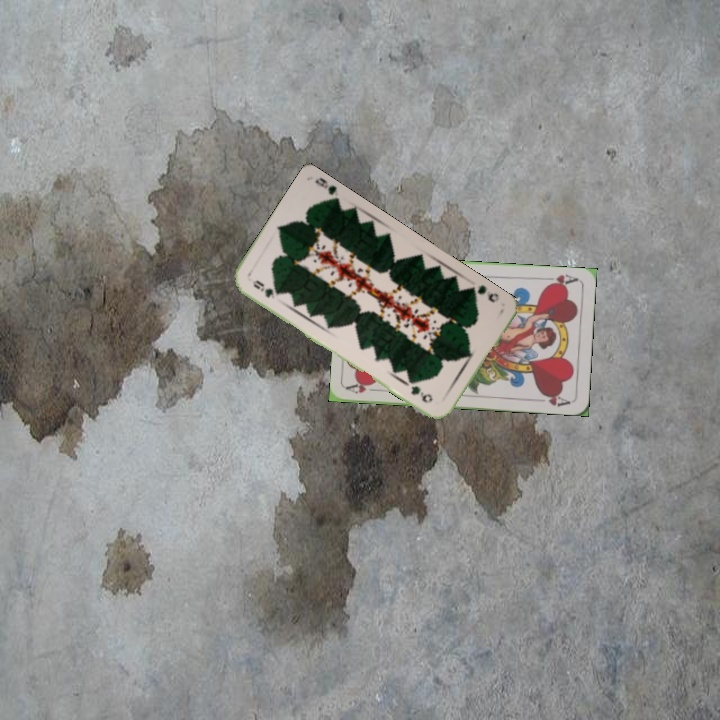G9: (466, 280, 502, 305), (249, 276, 280, 301)
HA: (539, 270, 580, 289), (344, 379, 385, 396)
